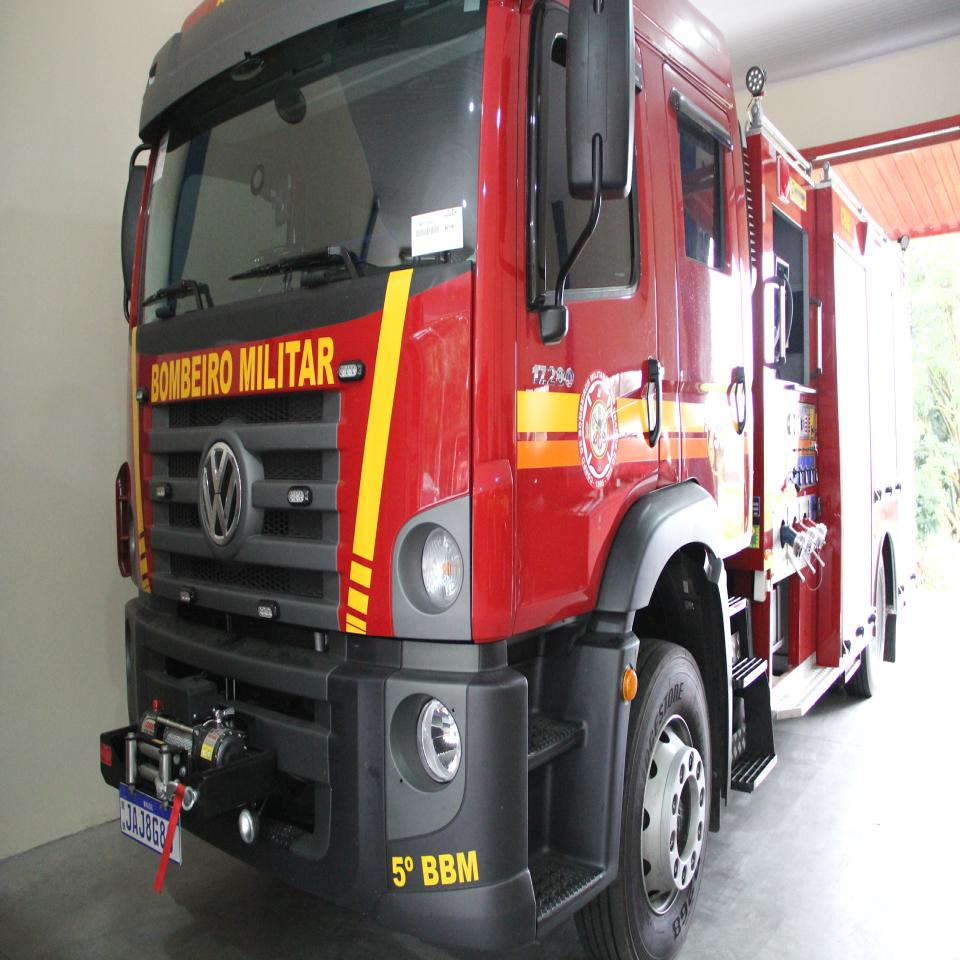bombeiro: (101, 0, 917, 960)
